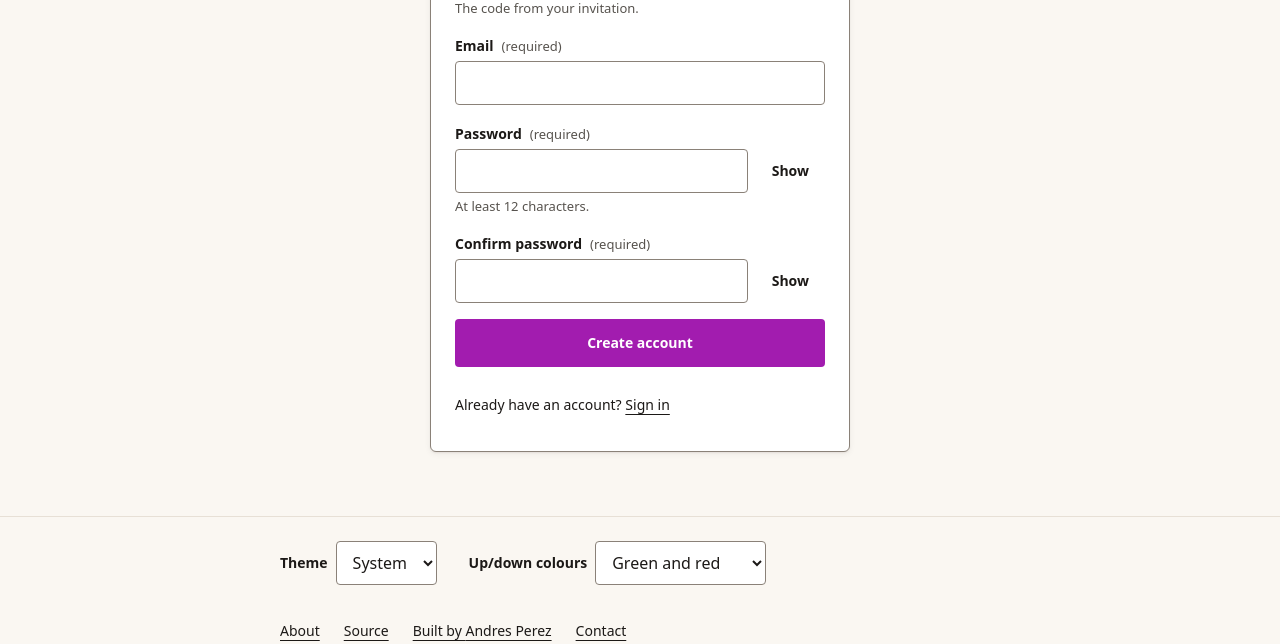
Test: sign up checks itself in the browser › shows every empty field at once, focuses the invite code and sends nothing
This screenshot has width=1280, height=644.
(page scrolled)
Click the button "Create account" at (640, 343), box [455, 319, 825, 367]
(page scrolled)
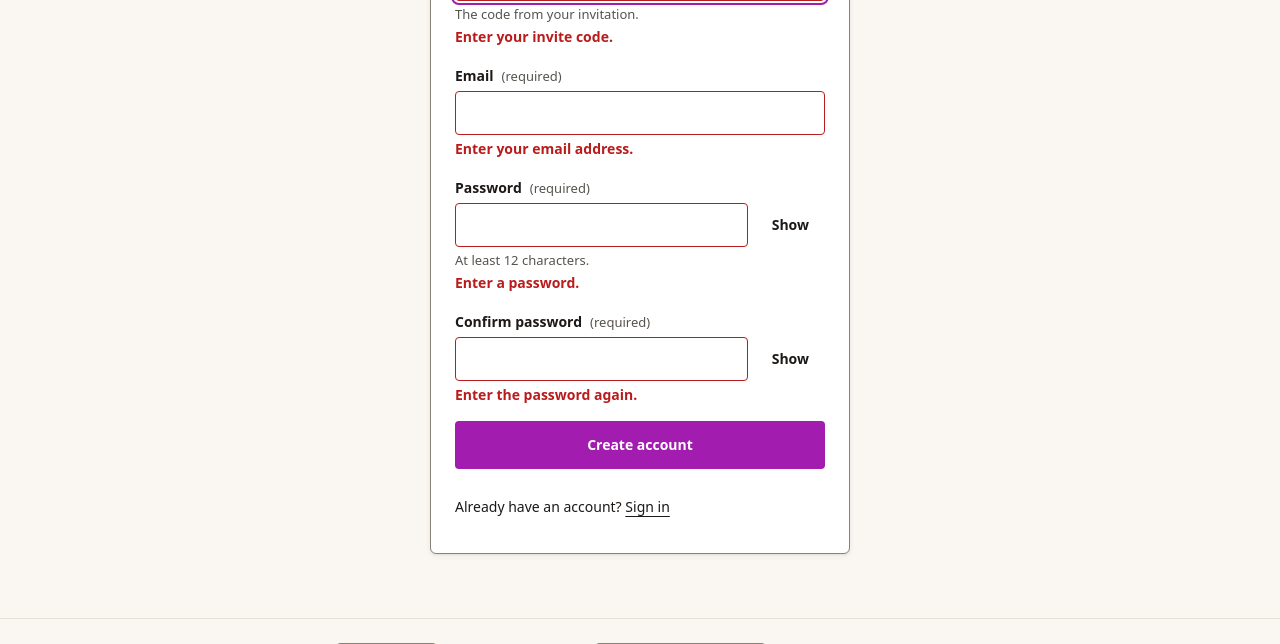
Result: the text "Enter your invite code." is shown at [455, 27, 613, 46]
Result: the text "Enter your email address." is shown at [455, 139, 633, 158]
Result: the text "Enter a password." is shown at [455, 273, 579, 292]
